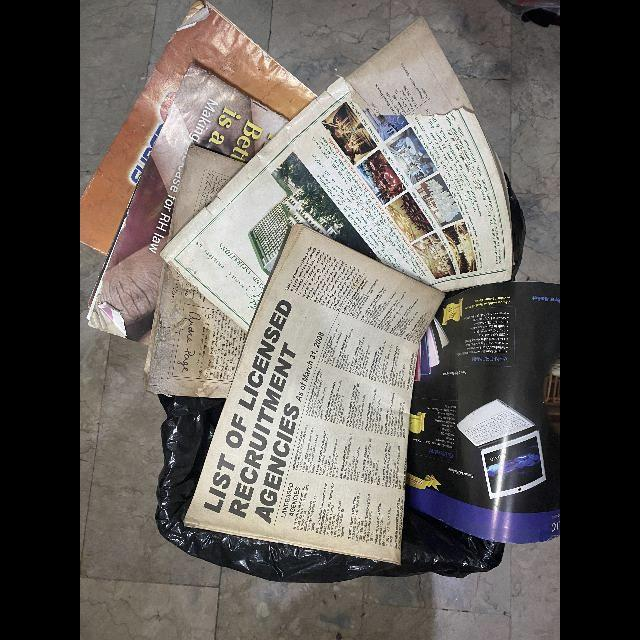paper: (159, 15, 514, 333), (183, 223, 446, 567), (80, 0, 319, 255), (87, 61, 289, 346), (405, 281, 560, 546), (143, 258, 248, 399), (162, 144, 247, 251)
